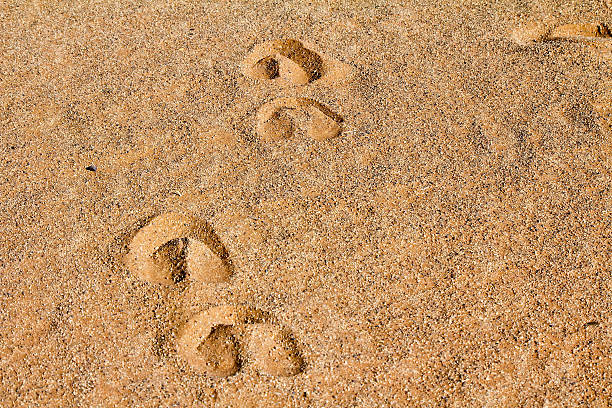animal_footprint: (177, 305, 303, 376), (123, 212, 231, 283), (242, 39, 351, 84), (256, 97, 342, 140), (511, 21, 611, 45), (592, 92, 611, 134)
